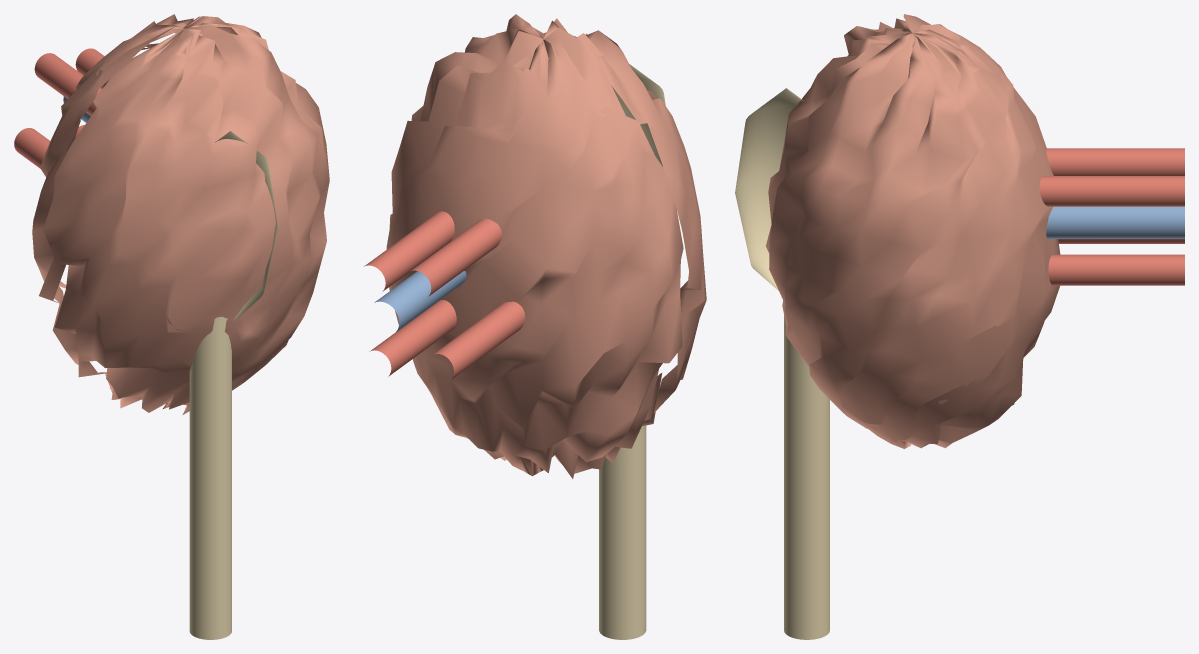
File: kidney.glb
The picture shows the model from 3 angles, left to right: view 1: azimuth 30°, elevation 25°; view 2: azimuth 150°, elevation 25°; view 3: azimuth 270°, elevation 25°; orthographic projection. The views are drawn at different scales.
Visible parts, largest first — view 1: kidney, ureter, renal_artery_2, renal_pelvis, renal_artery_4, renal_artery_1; view 2: kidney, ureter, renal_artery_4, renal_artery_1, renal_artery_2, renal_artery_3, renal_vein, renal_pelvis; view 3: kidney, ureter, renal_pelvis, renal_vein, renal_artery_1, renal_artery_3, renal_artery_2, renal_artery_4.
Part boxes in pixels (x1,y1,x2,y2): kidney: [32, 14, 329, 414]; ureter: [189, 316, 231, 639]; renal_artery_2: [34, 53, 101, 115]; renal_pelvis: [215, 131, 277, 321]; renal_artery_4: [14, 128, 50, 168]; renal_artery_1: [75, 48, 119, 88]; kidney: [386, 14, 706, 478]; ureter: [599, 425, 646, 639]; renal_artery_4: [432, 301, 525, 379]; renal_artery_1: [364, 211, 454, 291]; renal_artery_2: [409, 218, 501, 296]; renal_artery_3: [369, 300, 456, 376]; renal_vein: [374, 271, 466, 331]; renal_pelvis: [611, 64, 665, 166]; kidney: [766, 14, 1060, 448]; ureter: [784, 315, 829, 639]; renal_pelvis: [735, 88, 803, 290]; renal_vein: [1046, 206, 1184, 238]; renal_artery_1: [1039, 176, 1184, 206]; renal_artery_3: [1048, 254, 1184, 285]; renal_artery_2: [1046, 148, 1184, 175]; renal_artery_4: [1058, 239, 1184, 243].
Bounding box in the file's own units: 0.7541 × 1.55 × 1.02.
